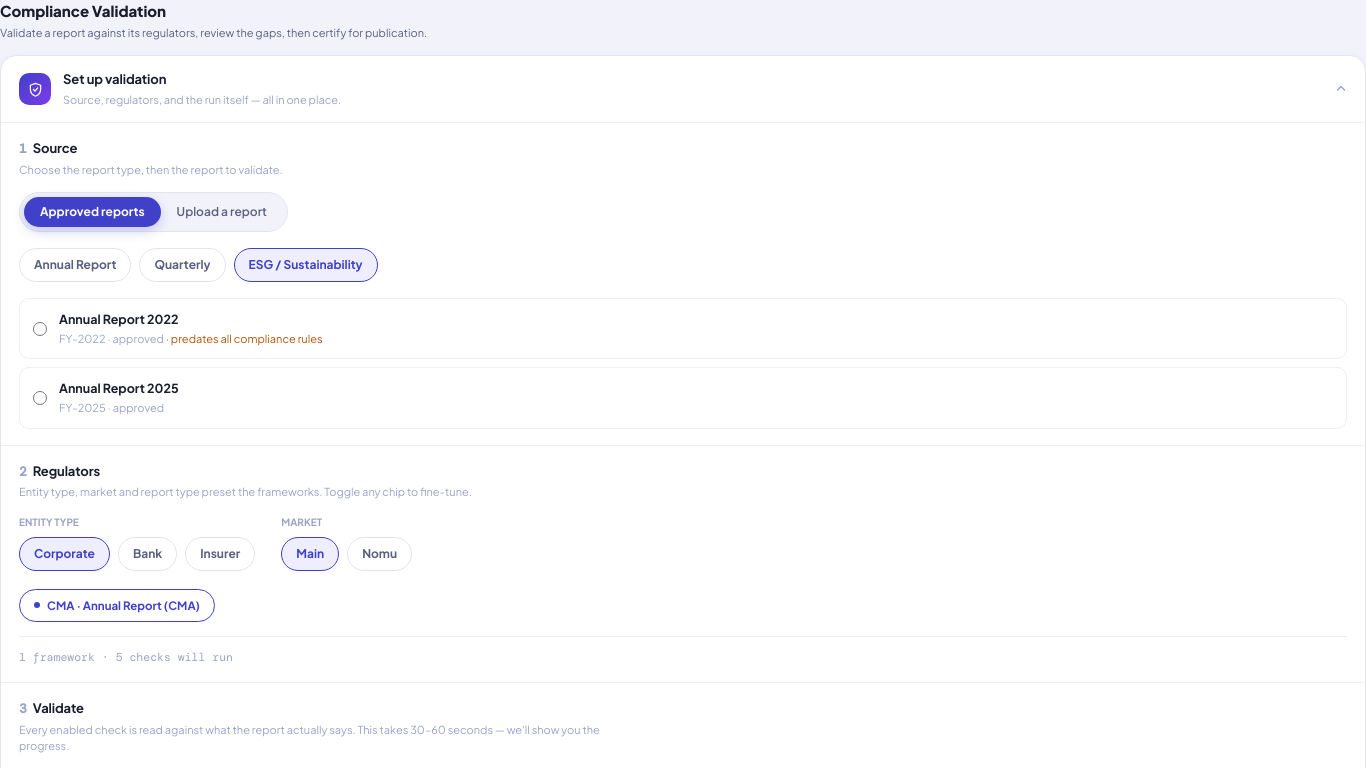
pre-2024 reports get consent, not validation › pops the acknowledgement, holds the run button shut, and sends nothing
This screenshot has width=1366, height=768.
Expected: the text "Annual Report 2022" is shown, x1=59 y1=311 x2=178 y2=327
Click the radio button labelled "Annual Report 2022" at (40, 329), box x1=33 y1=322 x2=47 y2=336
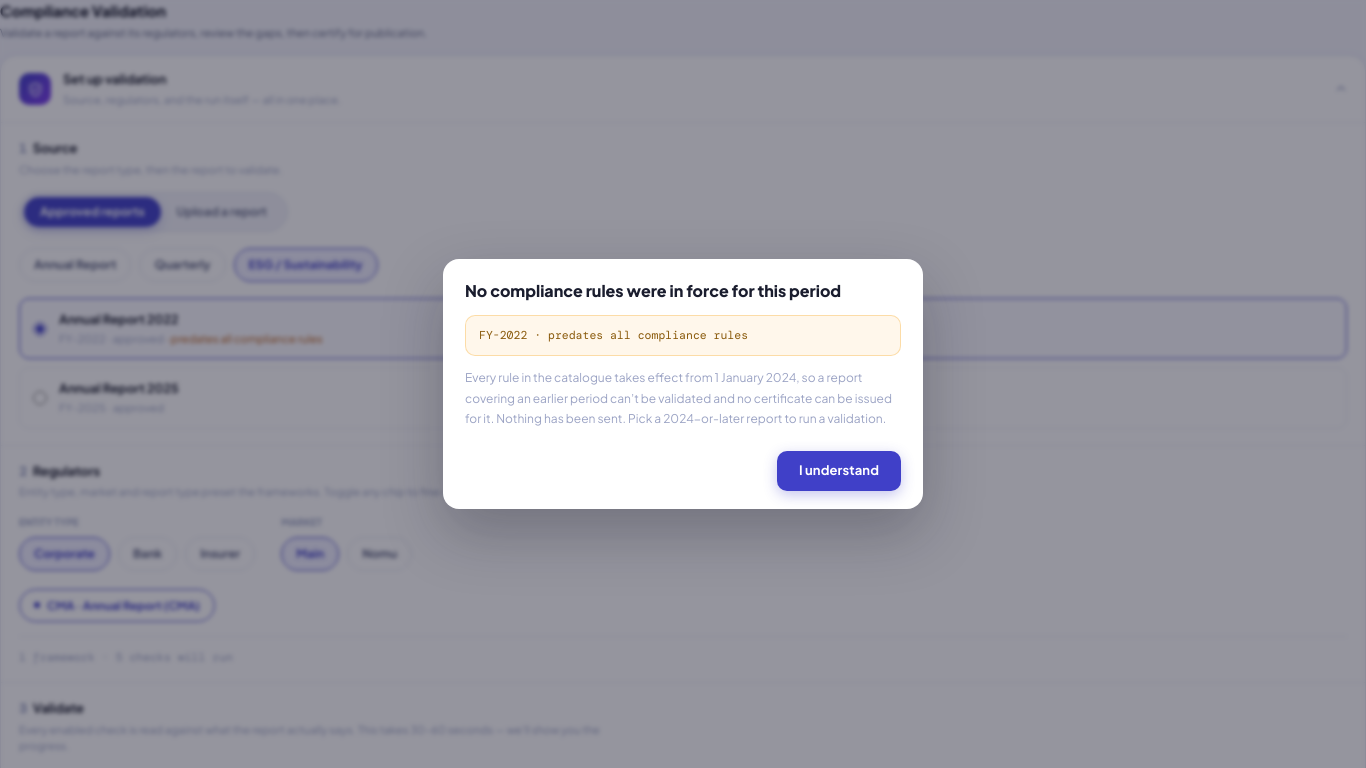
Result: the dialog is shown
Click the button "I understand" at (839, 471), box x1=777 y1=452 x2=901 y2=491
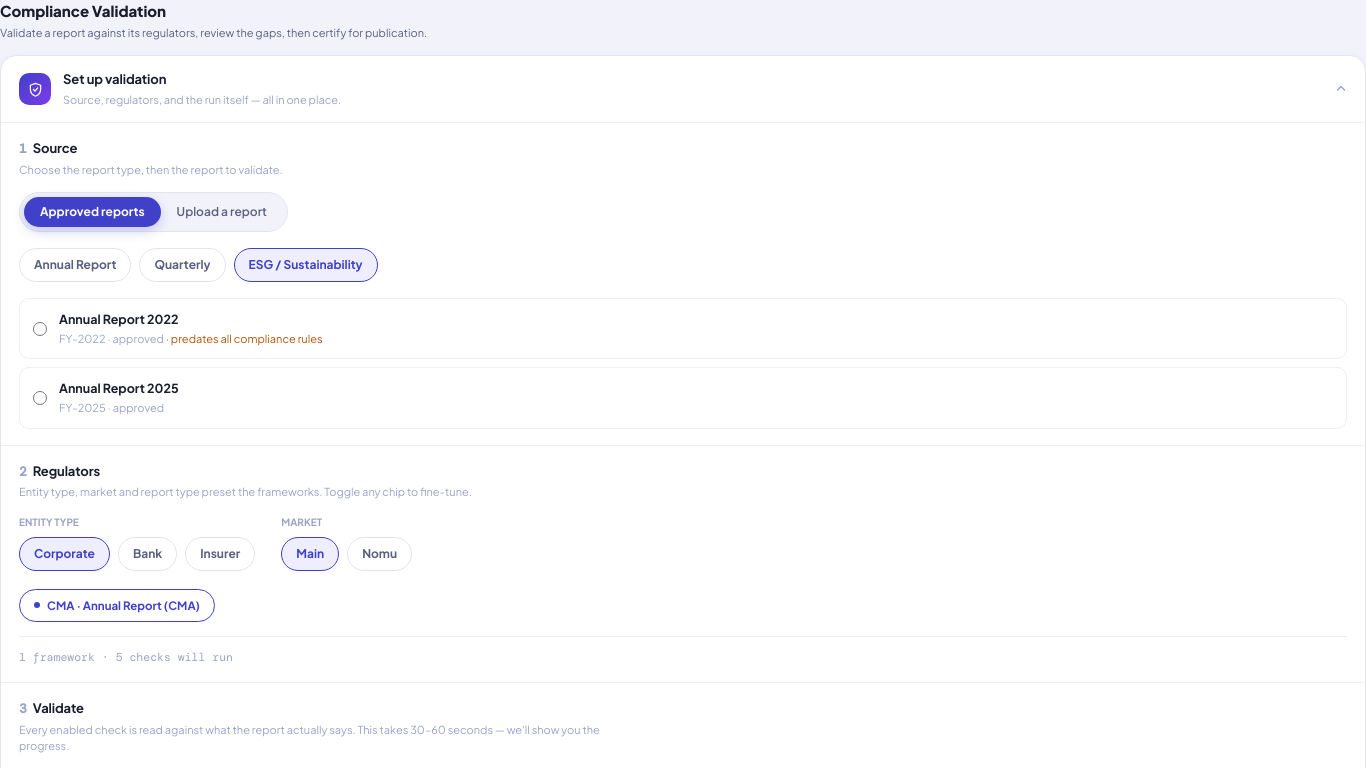
Result: the radio button labelled "Annual Report 2022" is not checked at x1=33 y1=322 x2=47 y2=336
Result: the dialog is gone
